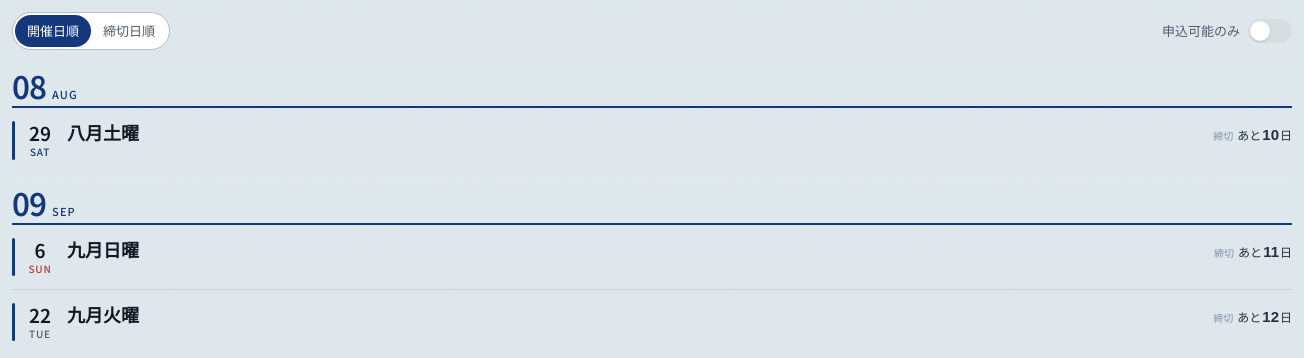
Test: EventListClient — 月区切り（開催日順のみ） › 開催日順ではタイトル行から開催日が消える（締切日順では従来どおり出る）
The width and height of the screenshot is (1304, 358).
Expected: the text "8/29(土)" is not shown
Click the tab "締切日順" at (129, 31), box 91,15 -> 167,47
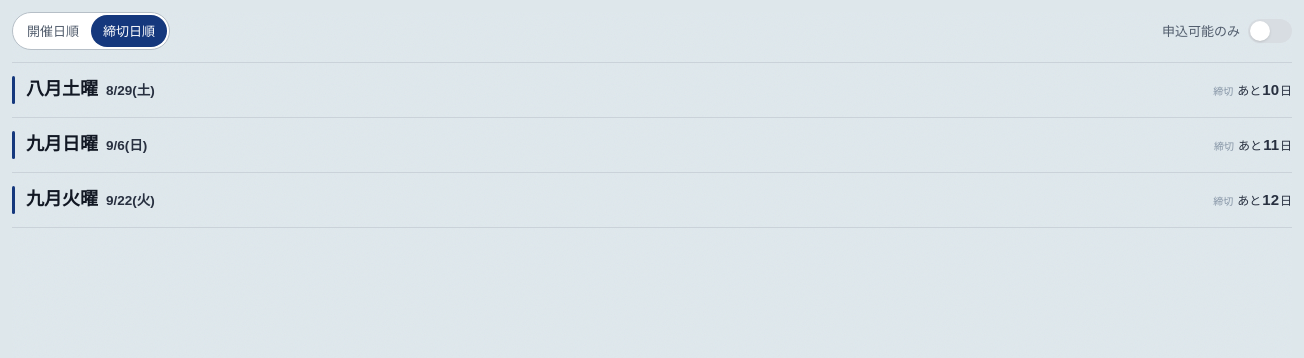
Now the text "8/29(土)" is shown, box 106,81 -> 155,102
